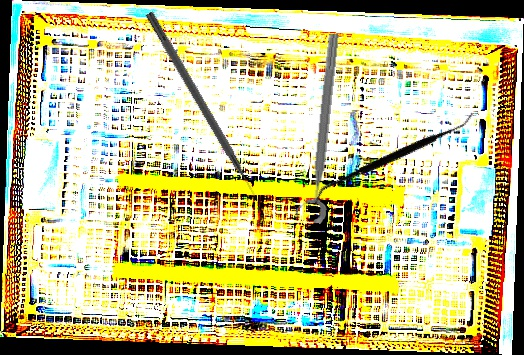Fixation Ring: (293, 31, 345, 225)
Hook Surgical: (143, 10, 263, 206)
Spatula Surgical: (312, 65, 476, 251)
